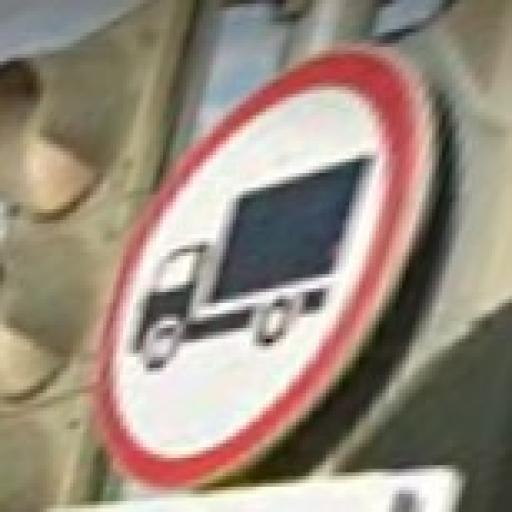traffic_sign: (98, 41, 444, 491)
